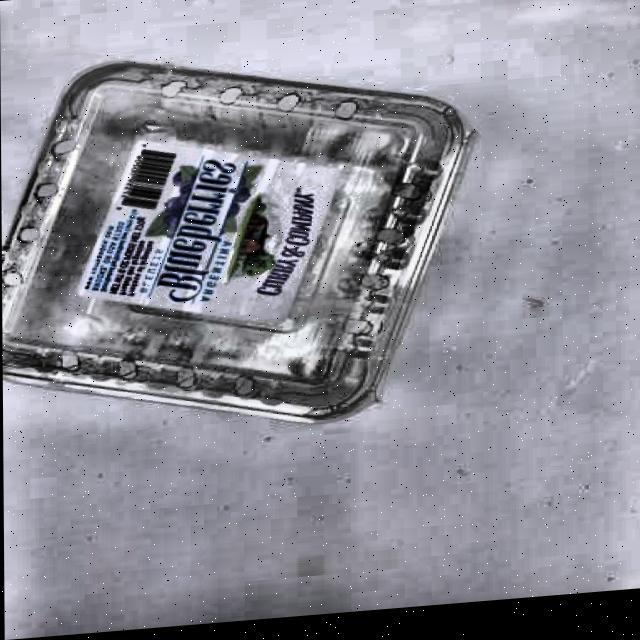plastic: (1, 30, 478, 452)
